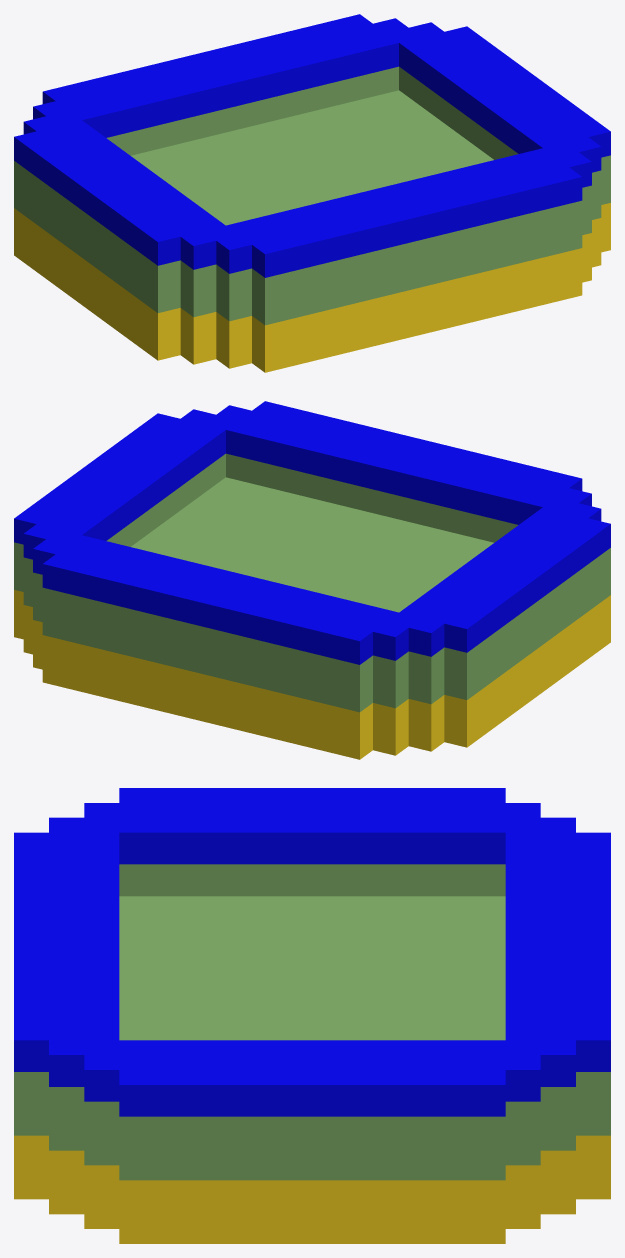
3 renders of one model, top to bottom at view 1: azimuth 30°, elevation 25°; view 2: azimuth 150°, elevation 25°; view 3: azimuth 270°, elevation 25°, orthographic. The views are drawn at different scales.
Visible parts, largest first — view 1: 94; view 2: 94; view 3: 94.
Boxes of the visible parts, bbox=[...] form: 94: bbox=[14, 14, 610, 372]; 94: bbox=[14, 401, 610, 759]; 94: bbox=[14, 788, 610, 1243].
Size of the model in its own units: 0.7874 by 0.1969 by 0.6693.
Materials: 1 (1 with a texture image).
